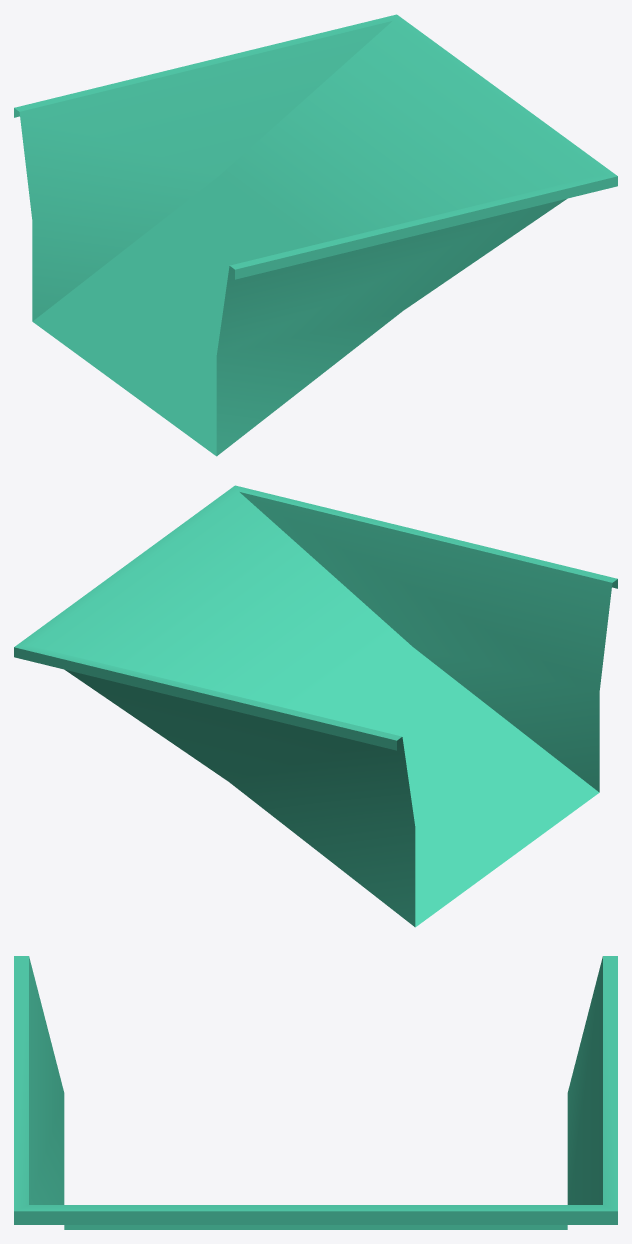
The model's file is Floor_4x4m_D_Steps.FBX.
3 renders of one model, top to bottom at view 1: azimuth 30°, elevation 25°; view 2: azimuth 150°, elevation 25°; view 3: azimuth 270°, elevation 25°, orthographic. The views are drawn at different scales.
Parts seen in each view (by area): view 1: Floor_4x4m_D_Steps; view 2: Floor_4x4m_D_Steps; view 3: Floor_4x4m_D_Steps.
Boxes of the visible parts, box(x1,y1,x2,y2) form: Floor_4x4m_D_Steps: box(14, 14, 617, 456); Floor_4x4m_D_Steps: box(14, 485, 617, 927); Floor_4x4m_D_Steps: box(14, 956, 617, 1229).
Size of the model in its own units: 400 by 200 by 400.
